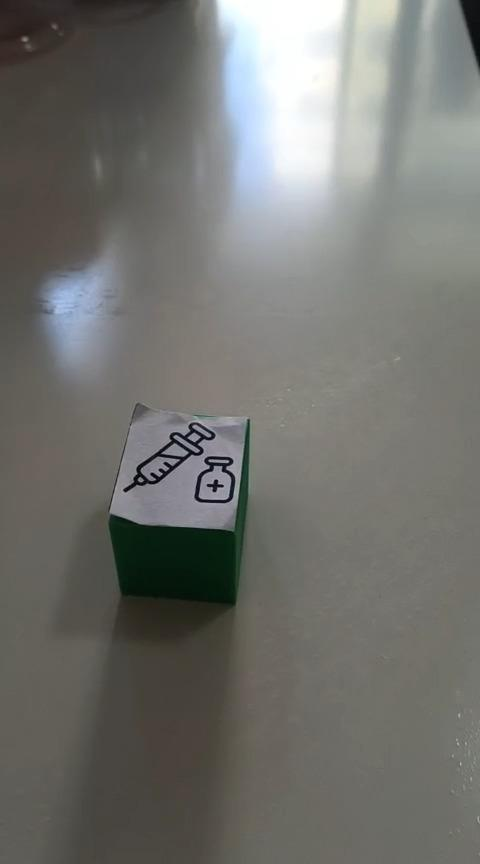antiseptic cream: (106, 400, 251, 605)
